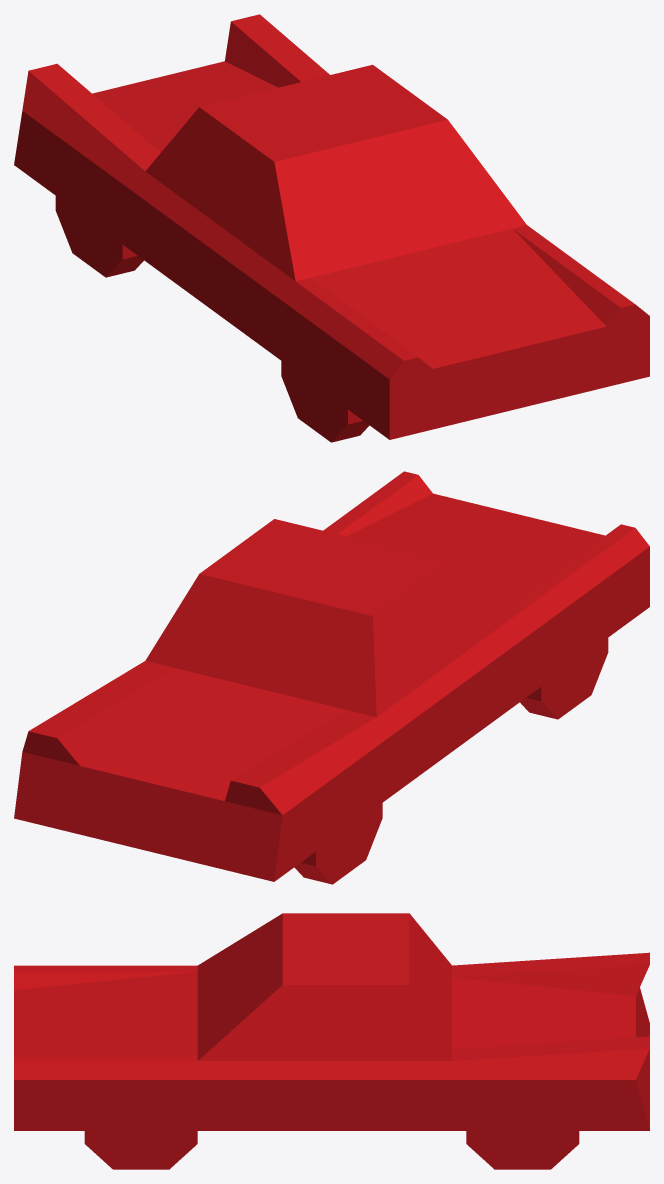
The model's file is auto3.fbx.
3 renders of one model, top to bottom at view 1: azimuth 30°, elevation 25°; view 2: azimuth 150°, elevation 25°; view 3: azimuth 270°, elevation 25°, orthographic. The views are drawn at different scales.
Parts seen in each view (by area): view 1: Plane; view 2: Plane; view 3: Plane.
Part boxes in pixels (x1,y1,x2,y2): Plane: (14,14,649,442); Plane: (14,471,649,884); Plane: (14,913,649,1169).
Bounding box in the file's own units: 180 × 130 × 450.
